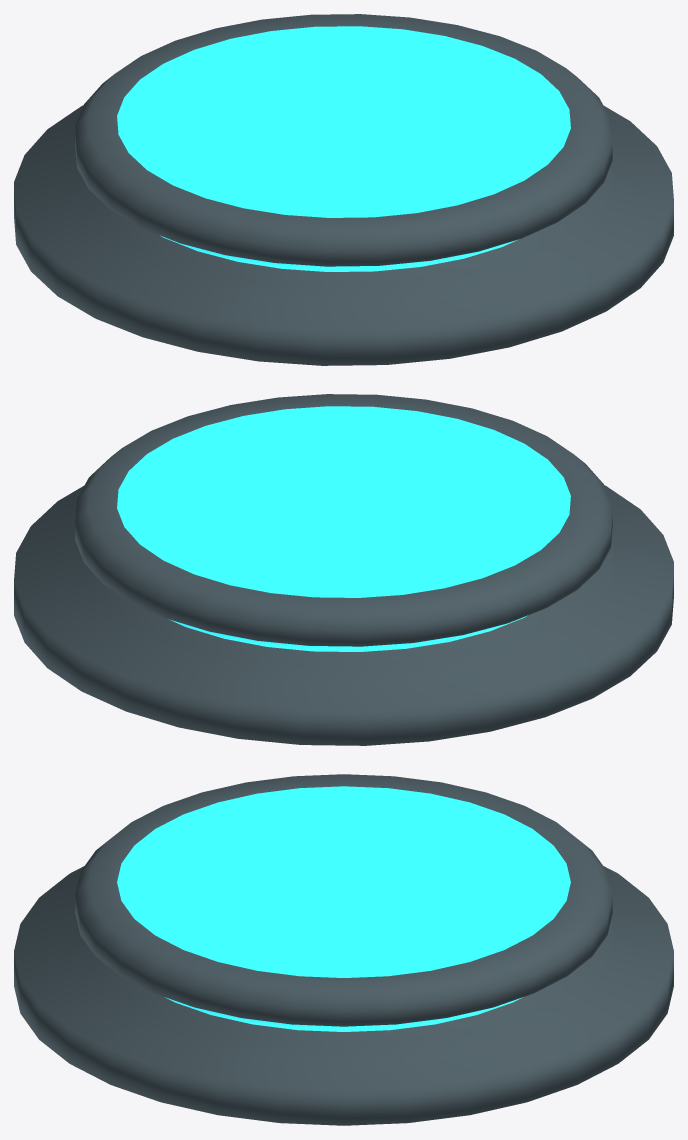
File: Deselected.glb
The picture shows the model from 3 angles, top to bottom: view 1: azimuth 30°, elevation 25°; view 2: azimuth 150°, elevation 25°; view 3: azimuth 270°, elevation 25°; orthographic projection.
Visible parts, largest first — view 1: DeSelected; view 2: DeSelected; view 3: DeSelected.
Boxes of the visible parts, x1,y1,x2,y2 form: DeSelected: [14, 14, 673, 365]; DeSelected: [14, 394, 673, 745]; DeSelected: [14, 774, 673, 1125].
Size of the model in its own units: 0.0986 by 0.0172 by 0.0986.
Materials: 2 (1 with a texture image).
